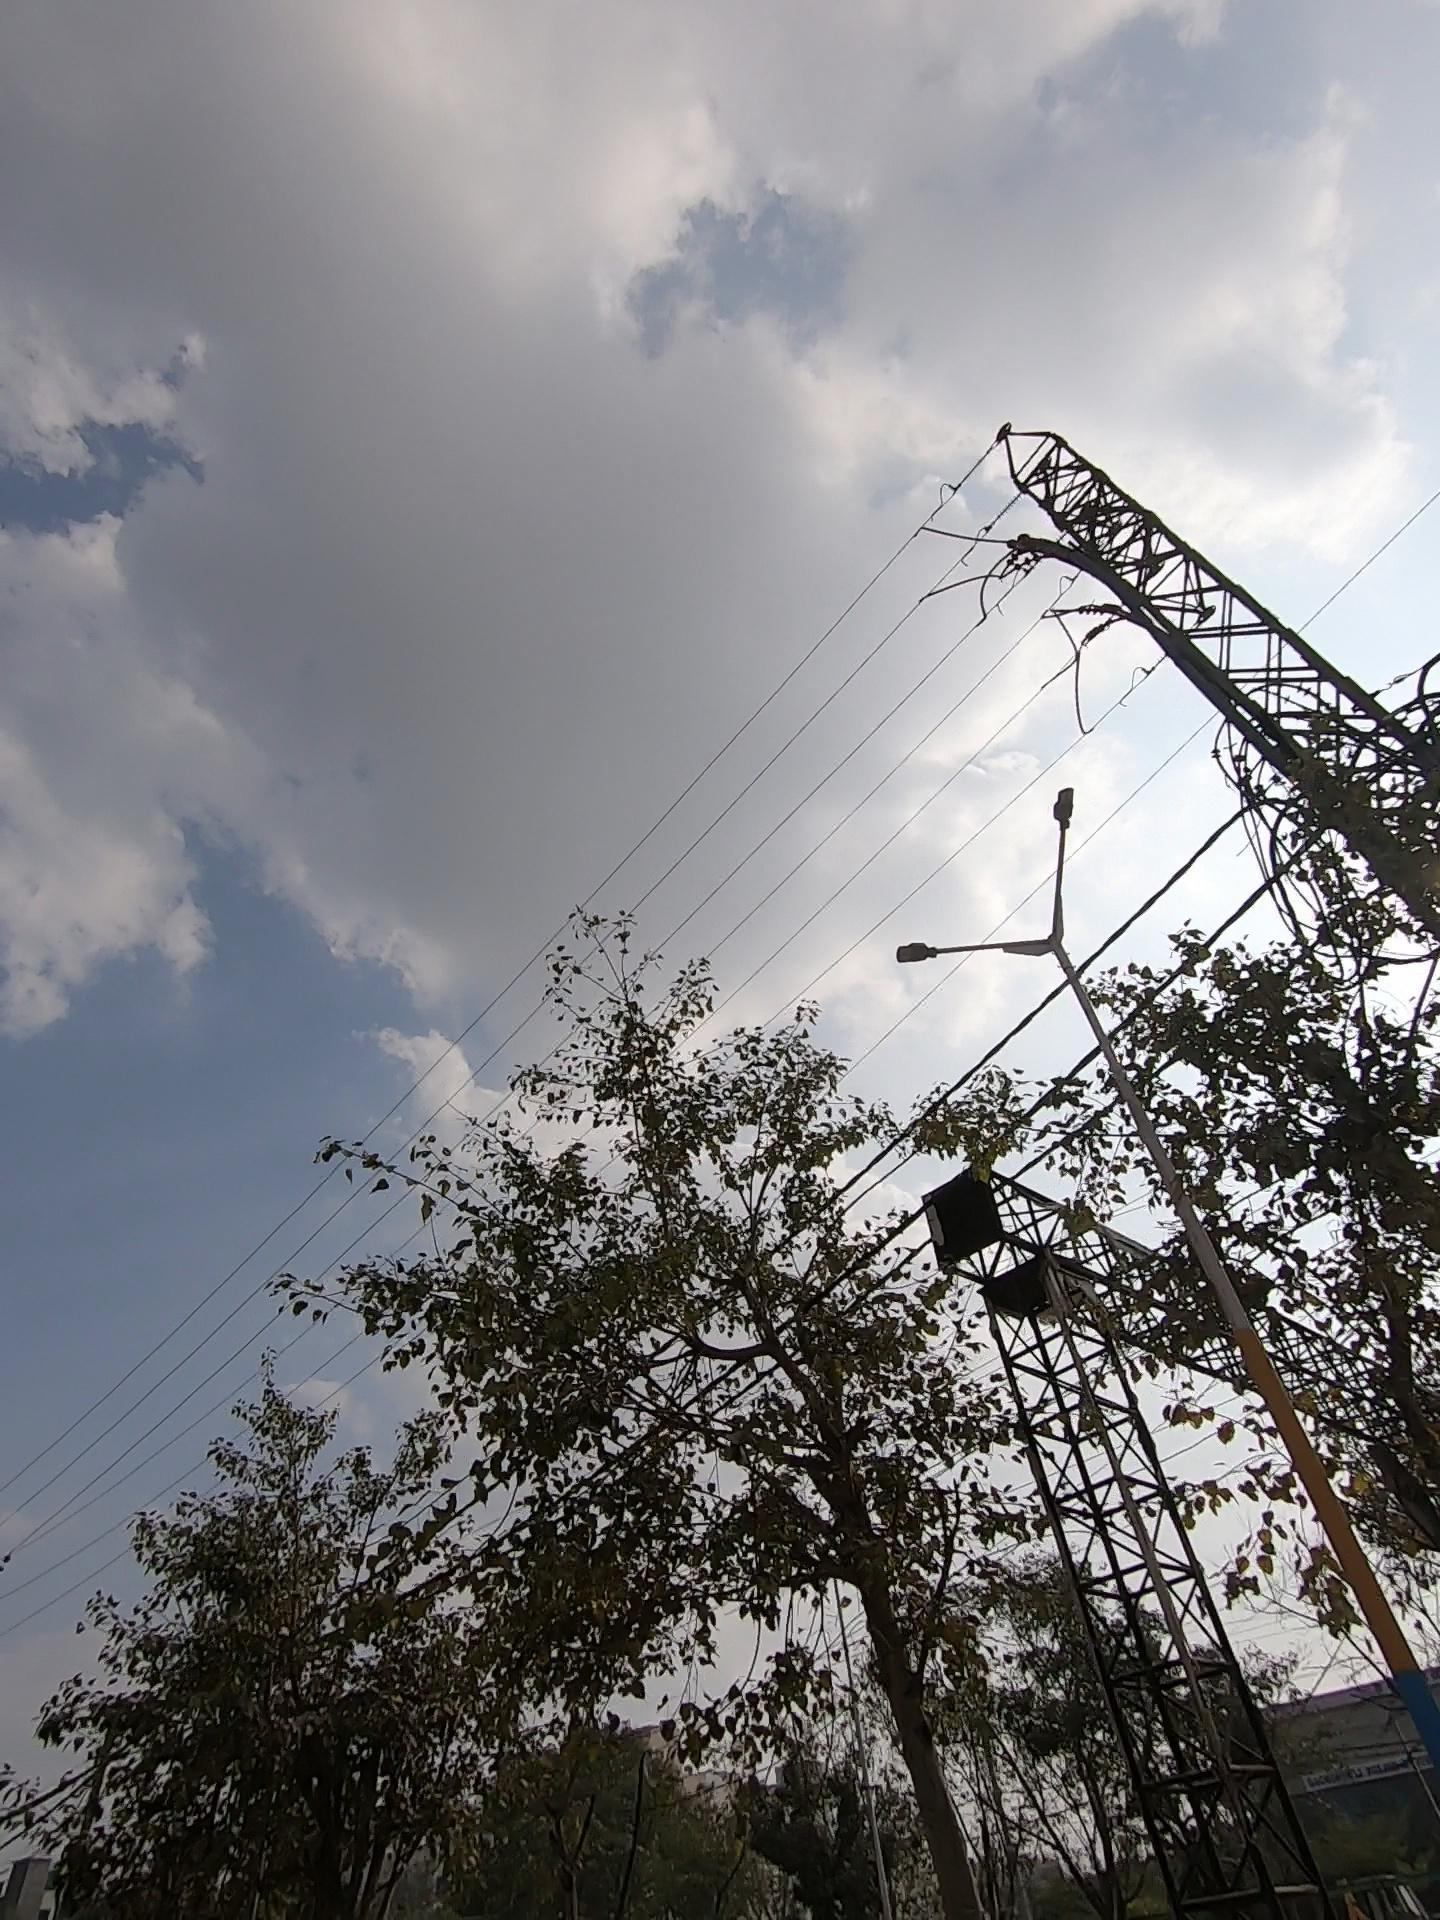off: (880, 726, 1156, 1023)
